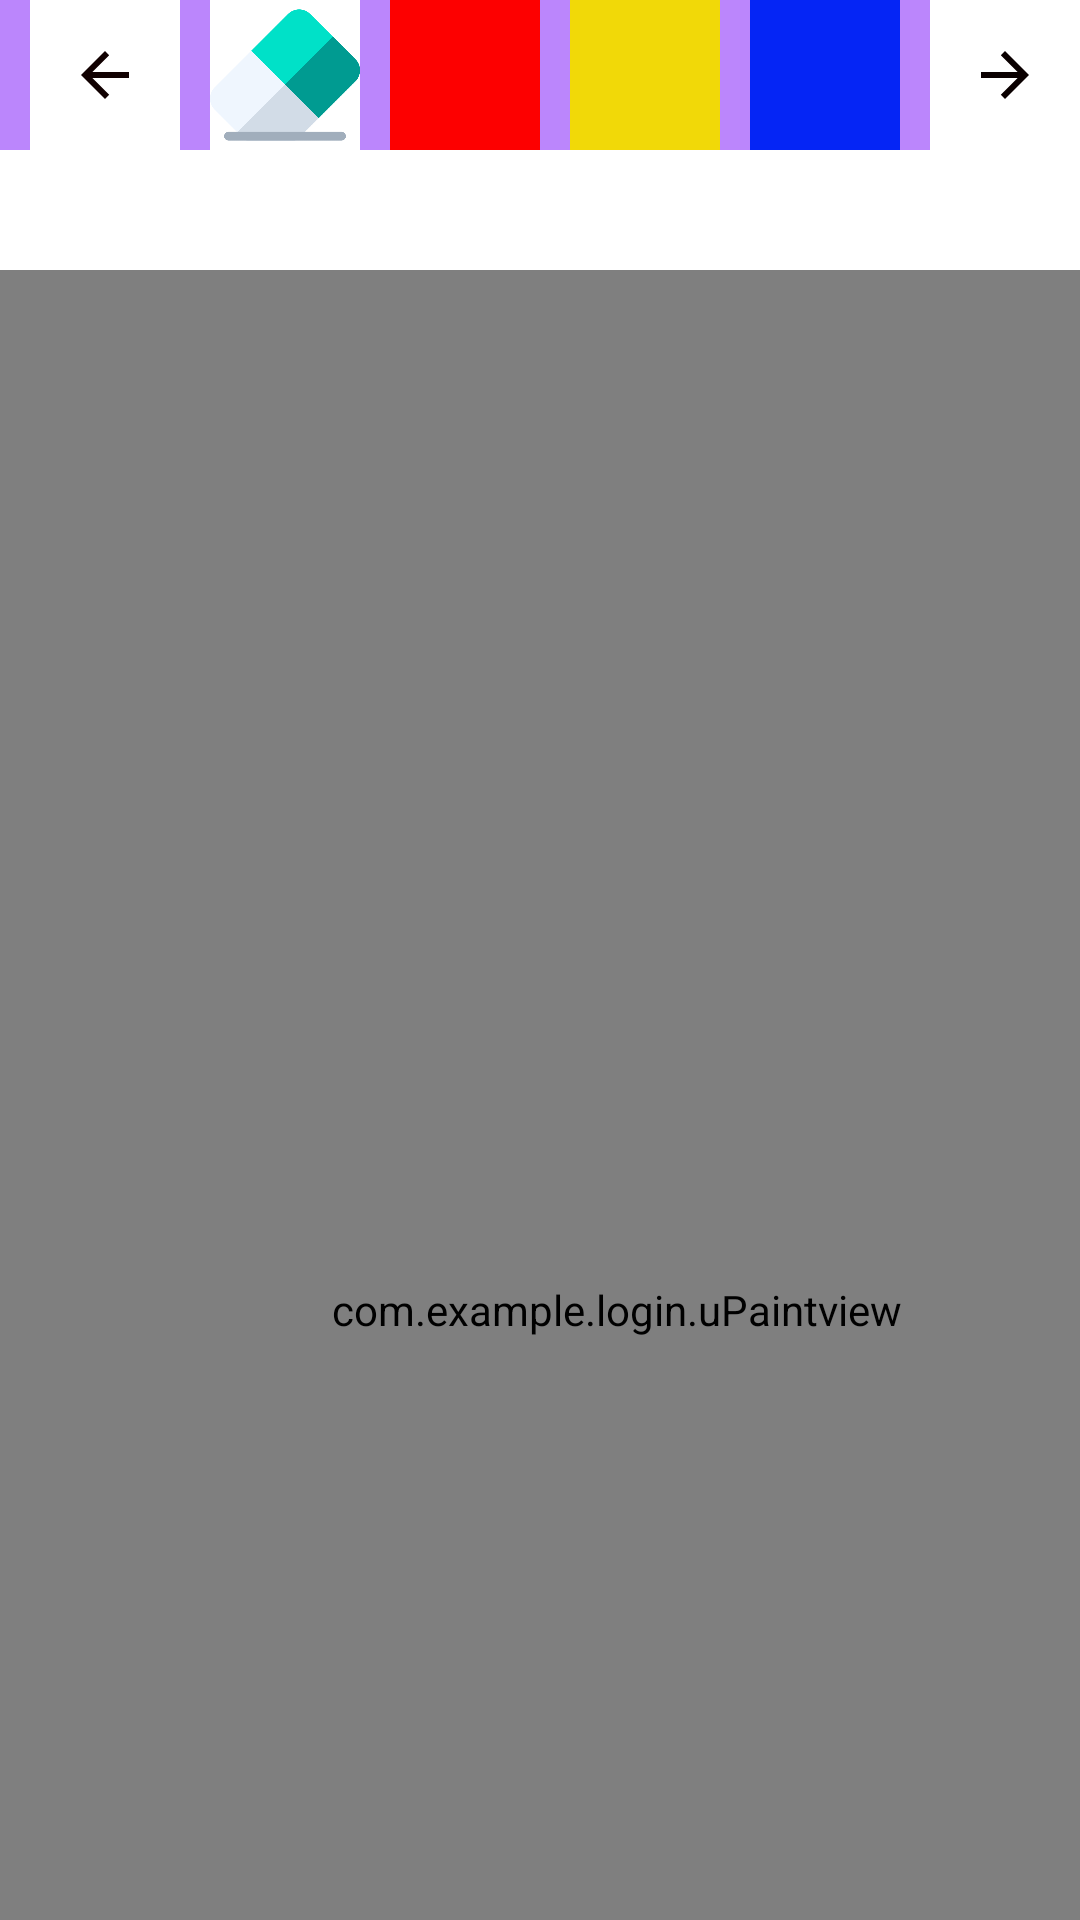

Named icons in this screenshot (1080*1920) and their centers, point (x, y):
eraser: point (292, 75)
